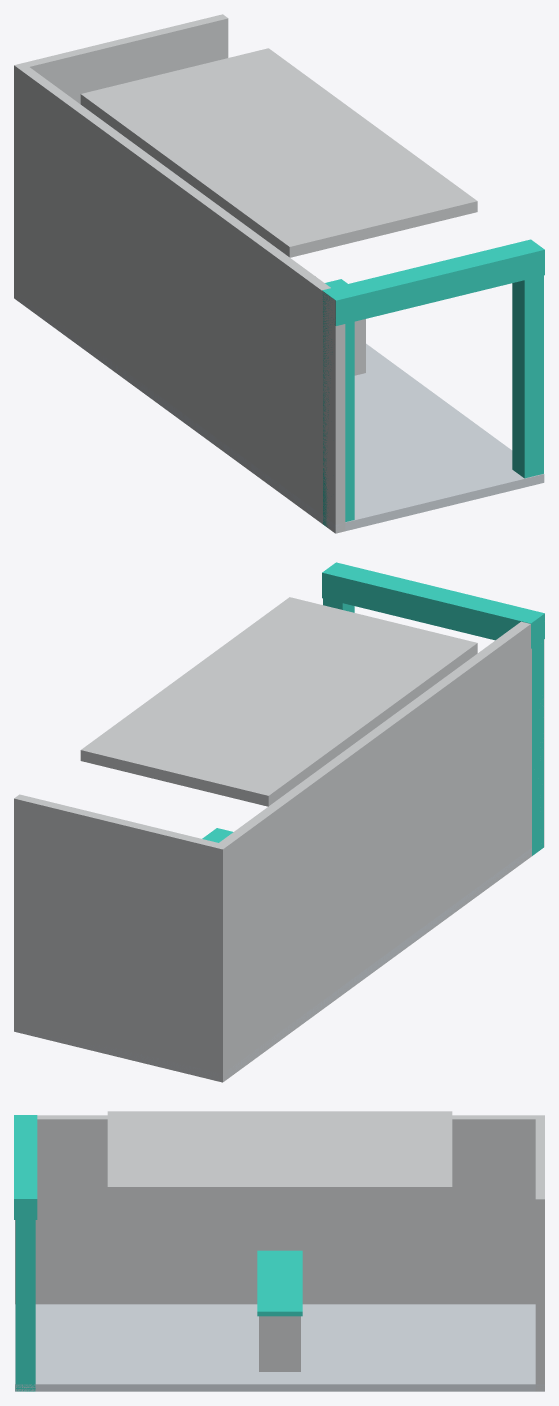
3 renders of one model, top to bottom at view 1: azimuth 30°, elevation 25°; view 2: azimuth 150°, elevation 25°; view 3: azimuth 270°, elevation 25°, orthographic. The views are drawn at different scales.
Visible parts, largest first — view 1: Exhibition Booth Concept; view 2: Exhibition Booth Concept; view 3: Exhibition Booth Concept.
Boxes of the visible parts, x1,y1,x2,y2 form: Exhibition Booth Concept: [14, 14, 544, 533]; Exhibition Booth Concept: [14, 562, 544, 1082]; Exhibition Booth Concept: [14, 1111, 544, 1391].
Size of the model in its own units: 3 by 3.34 by 8.01.
